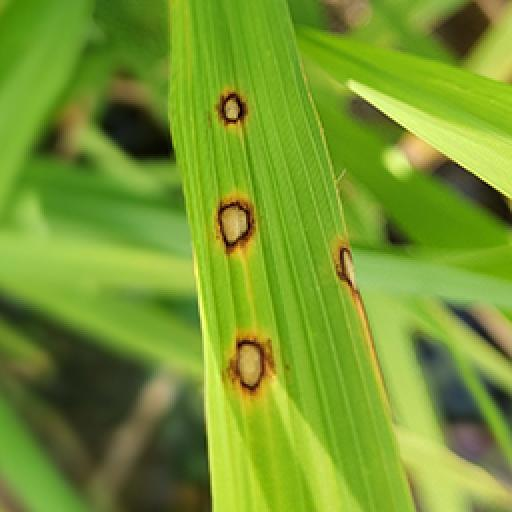Brown Spot: (318, 238, 376, 348), (219, 322, 285, 402), (206, 194, 270, 262), (204, 82, 254, 134)
